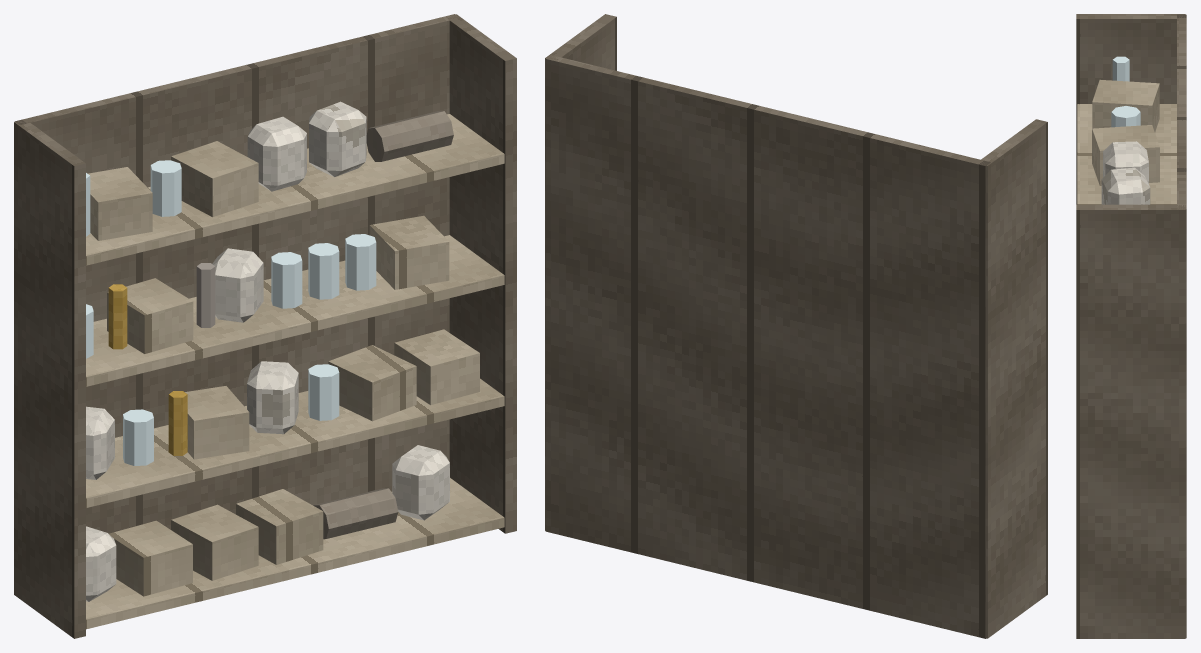
The model's file is shop_shelf.obj.
3 views of the same model, side by side, from view 1: azimuth 30°, elevation 25°; view 2: azimuth 150°, elevation 25°; view 3: azimuth 270°, elevation 25° (orthographic). The views are drawn at different scales.
Parts seen in each view (by area): view 1: shop_shelf; view 2: shop_shelf; view 3: shop_shelf.
Part boxes in pixels (left/top/right/bottom): shop_shelf: left=14, top=14, right=516, bottom=638; shop_shelf: left=545, top=14, right=1047, bottom=638; shop_shelf: left=1076, top=14, right=1186, bottom=638.
Size of the model in its own units: 1.91 by 1.95 by 0.455.
